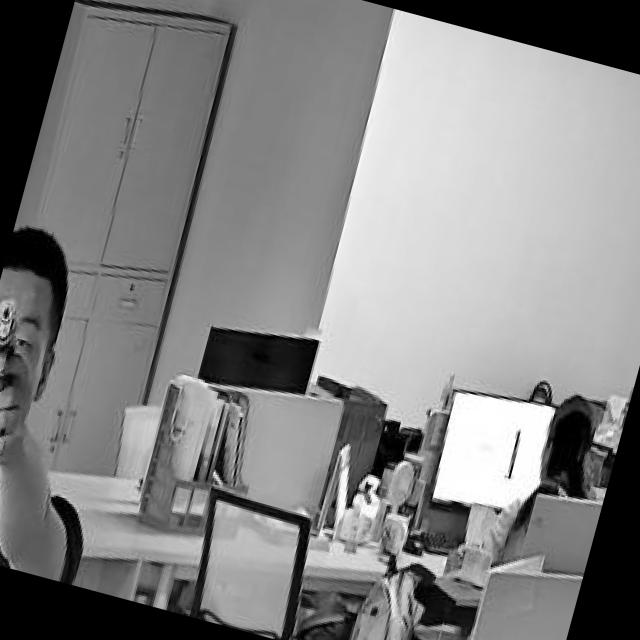Guns: (0, 279, 57, 428)
